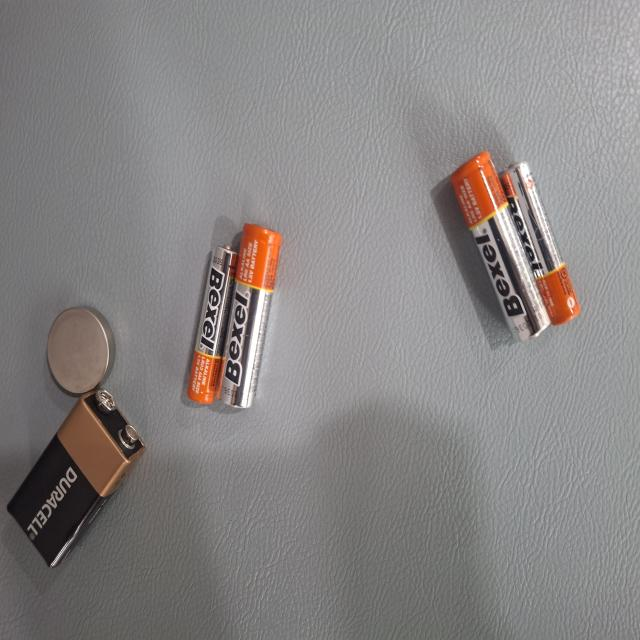AA: (114, 120, 256, 252), (168, 480, 306, 563)
AAA: (123, 83, 246, 184), (181, 534, 303, 604)
